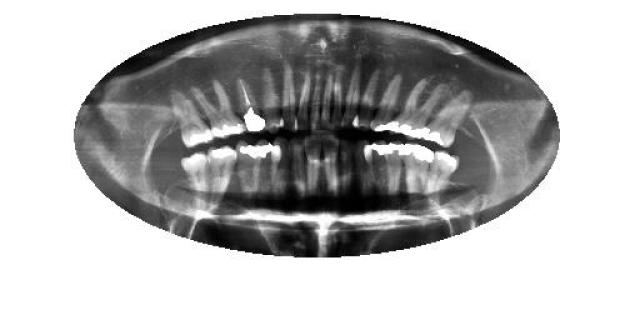Fillings: (390, 76, 442, 142), (191, 80, 245, 140), (422, 89, 472, 148), (172, 90, 214, 149), (400, 145, 434, 200), (205, 146, 236, 206), (370, 72, 401, 132), (426, 151, 462, 200), (236, 140, 255, 198), (254, 138, 272, 198), (385, 141, 403, 199), (370, 141, 386, 194)
Implant: (234, 75, 266, 136)
